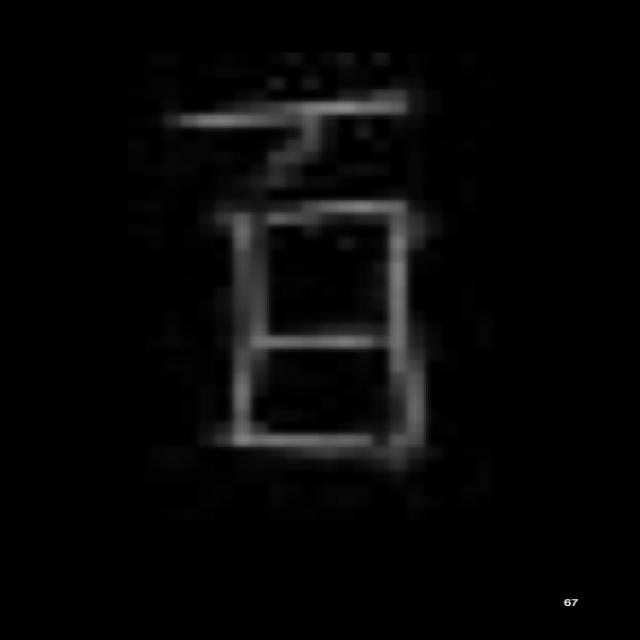100 -a hundred-: (143, 80, 451, 478)
